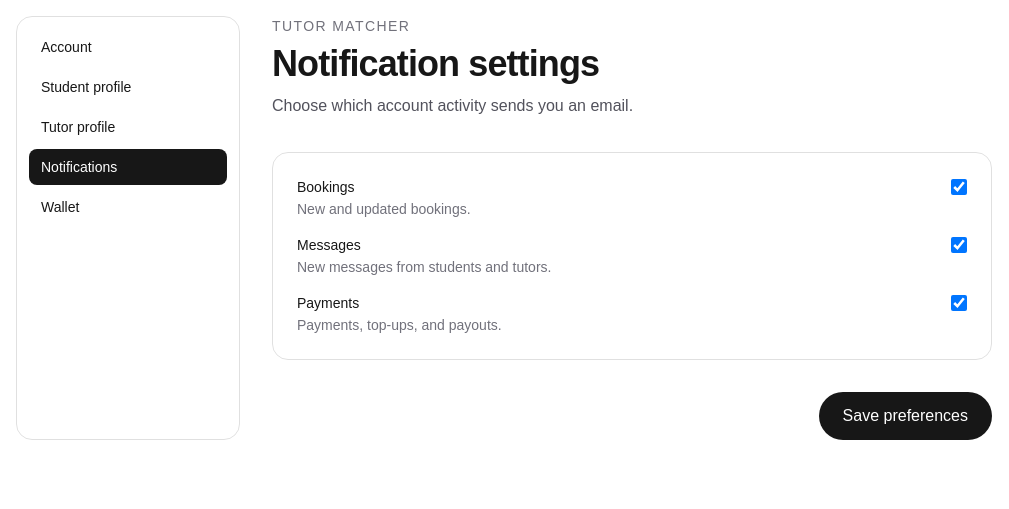
Test: NotificationSettingsPage › shows an error message when saving fails
Check: the checkbox labelled "Bookings New and updated bookings." is shown, box [951,179,967,195]
Click the button "Save preferences". click: (905, 416)
box: [819,392,992,440]
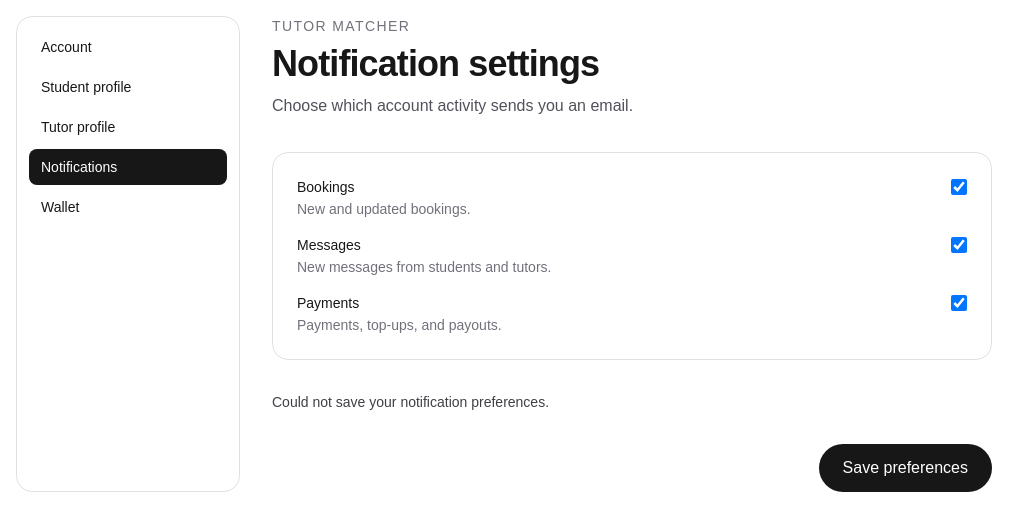
Check: the text "Could not save your notification preferences." is shown, box [272,394,549,410]
